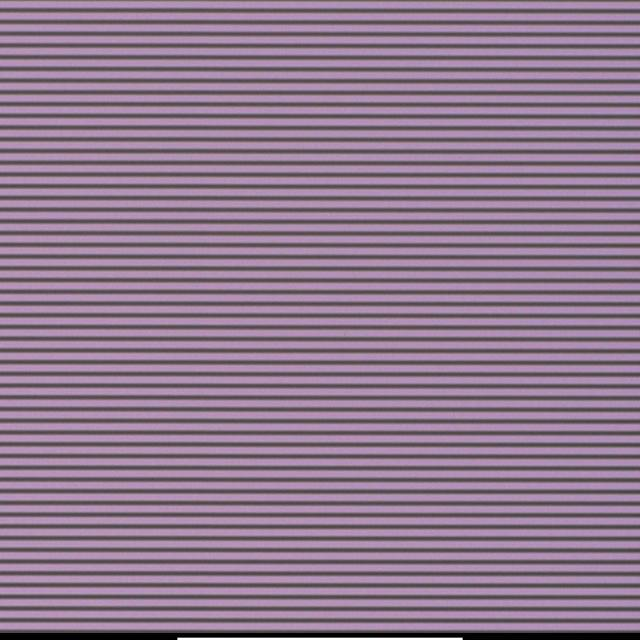nonvisual: (341, 327, 350, 338)
